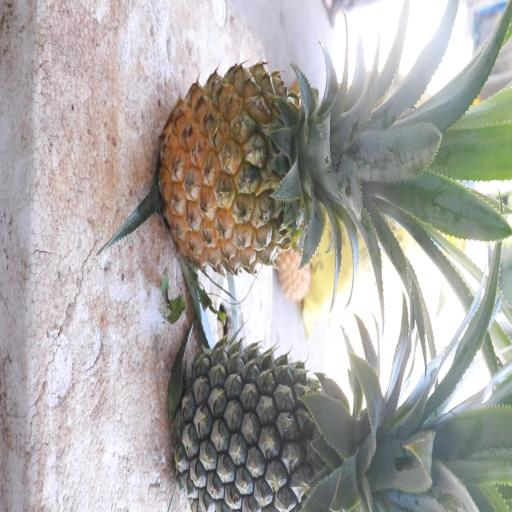Pineapple - v8 v1: (161, 38, 441, 282)
